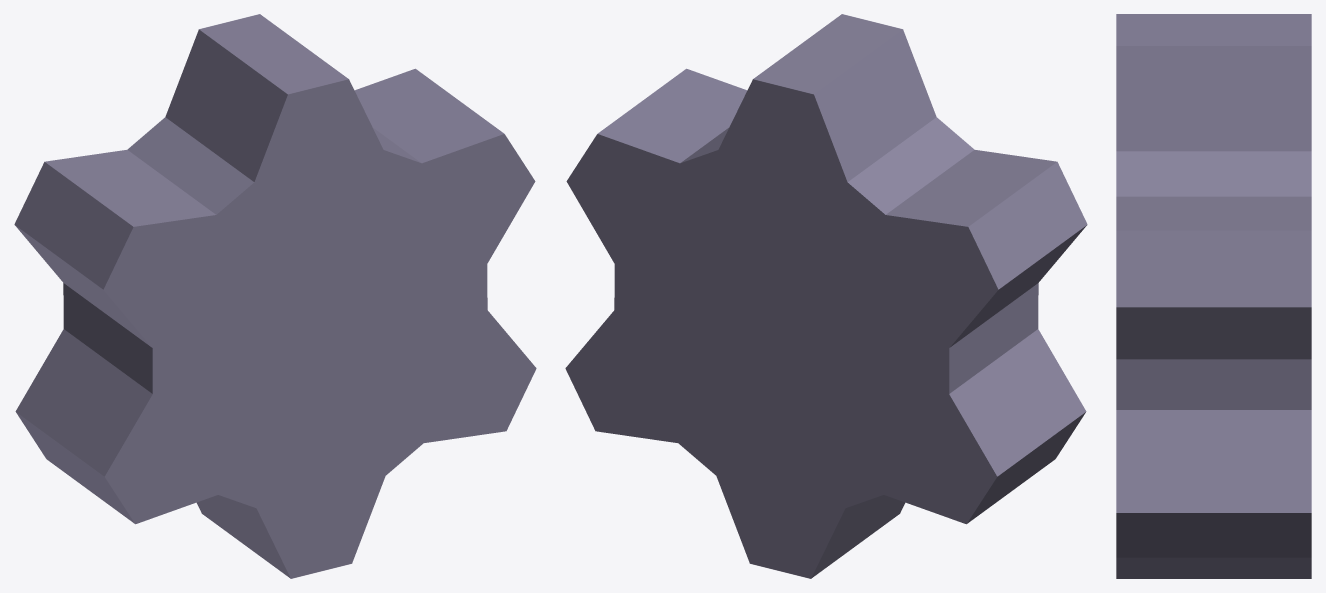
Rendered from gear.fbx.
3 views of the same model, side by side, from view 1: azimuth 30°, elevation 25°; view 2: azimuth 150°, elevation 25°; view 3: azimuth 270°, elevation 25° (orthographic). The views are drawn at different scales.
Visible parts, largest first — view 1: gear; view 2: gear; view 3: gear.
Boxes of the visible parts, x1=… form: gear: x1=14, y1=14, x2=536, y2=578; gear: x1=565, y1=14, x2=1087, y2=578; gear: x1=1116, y1=14, x2=1311, y2=578.
Size of the model in its own units: 21.53 by 23.06 by 7.67.
